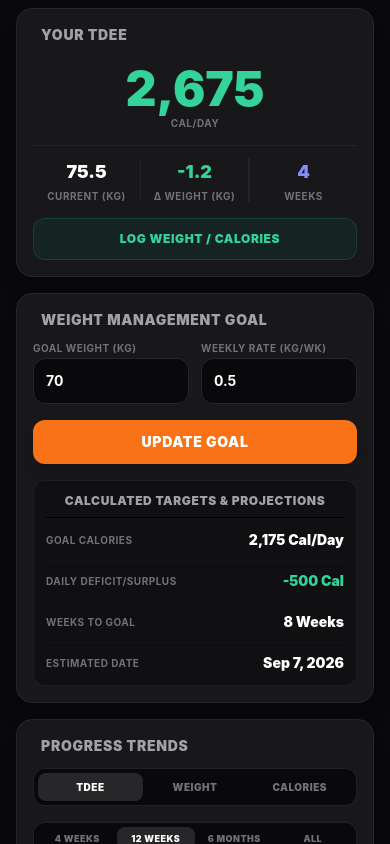
TDEEScreen › chart tabs › switches to the weight tab and its daily timeframes
Click the element with test id "chart-tab-weight" at (195, 787), box [173,781,217,793]
(page scrolled)
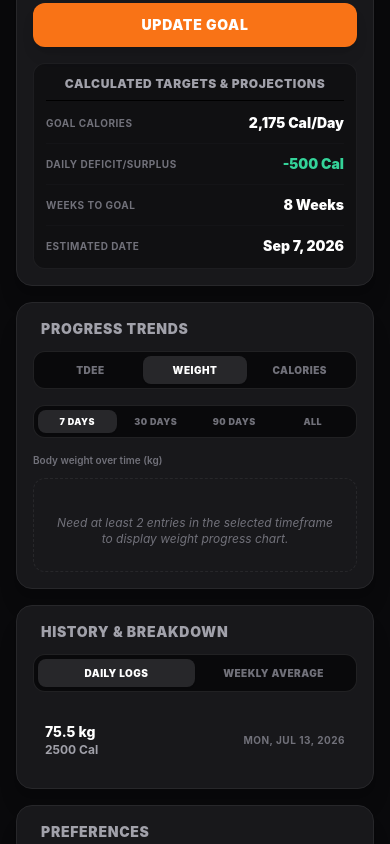
Now the text "Body weight over time (kg)" is shown, box [33,454,162,466]
Now the element with test id "timeframe-7d" is shown, box [38,410,116,433]
